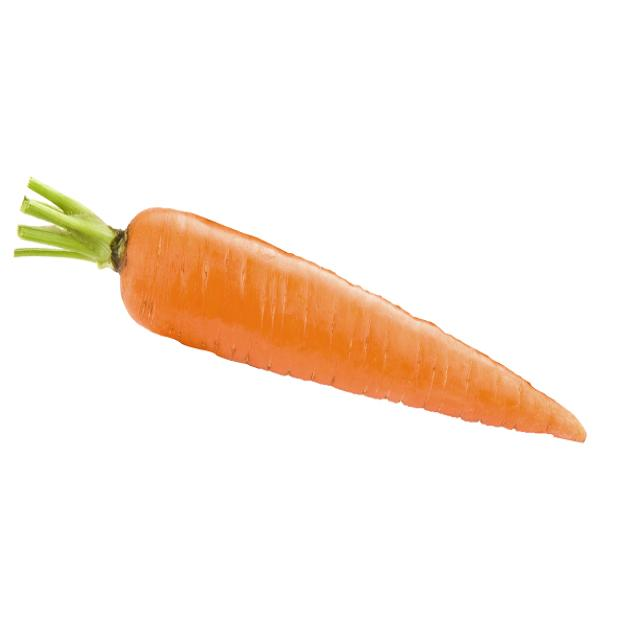Carrot: (120, 206, 588, 454)
